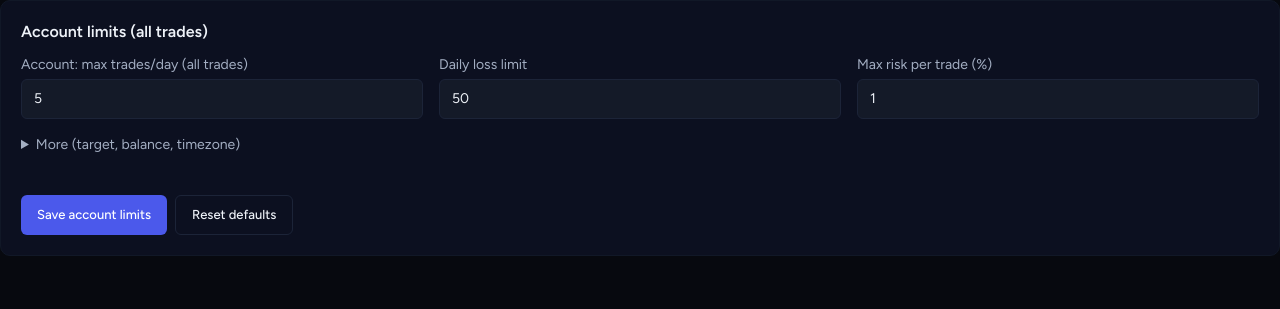
it: Account limits card › saves the account limits
Replace the text in the number field with test id "risk-max-trades" with "3" at coordinates (222, 99), box [21,79,423,119]
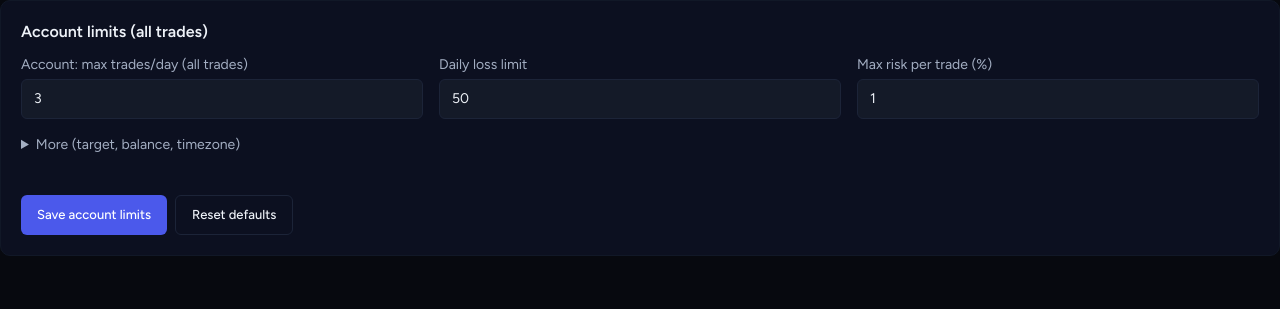
Click the button with test id "risk-settings-save" at coordinates (94, 215), box [21,195,167,235]
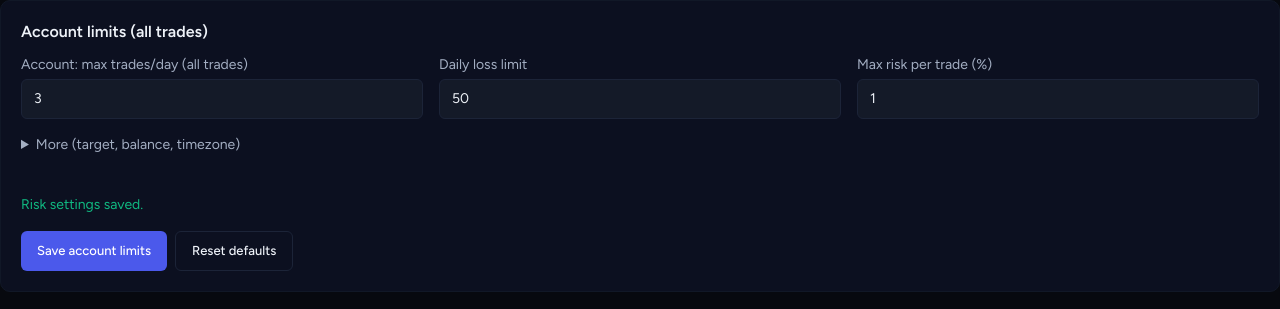
expect the message with test id "risk-settings-saved" reads "Risk settings saved.": met, box [21,196,143,213]
